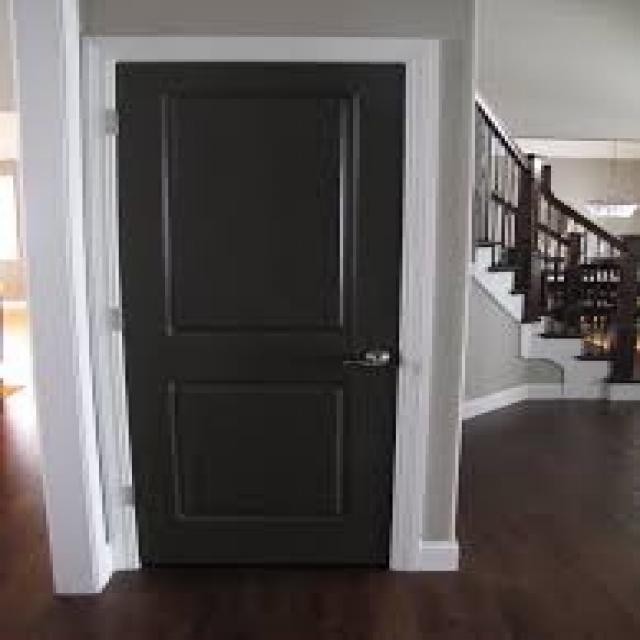Door: (92, 46, 419, 574)
